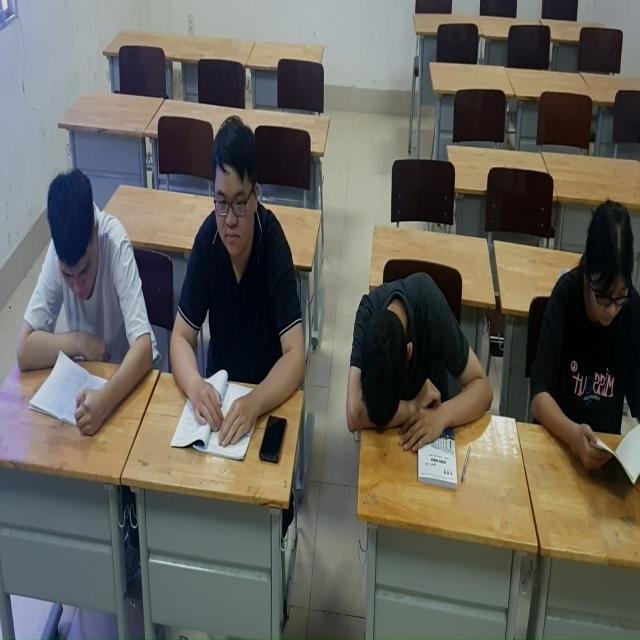read: (171, 101, 305, 454), (7, 156, 156, 438), (514, 204, 640, 502)
sleep: (346, 269, 503, 468)
